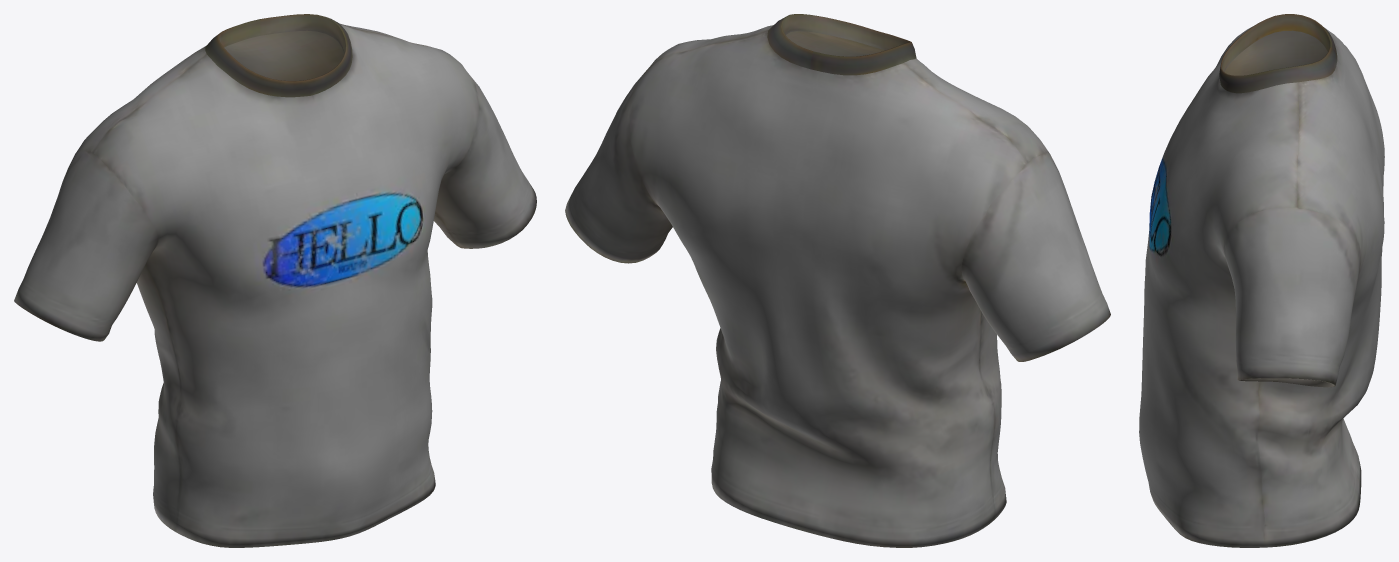
File: m_tee.glb
The picture shows the model from 3 angles, left to right: view 1: azimuth 30°, elevation 25°; view 2: azimuth 150°, elevation 25°; view 3: azimuth 270°, elevation 25°; orthographic projection. The views are drawn at different scales.
Parts seen in each view (by area): view 1: Object_2; view 2: Object_2; view 3: Object_2.
Boxes of the visible parts, left/top/right/bottom form: Object_2: left=14, top=14, right=536, bottom=547; Object_2: left=565, top=14, right=1110, bottom=547; Object_2: left=1139, top=14, right=1384, bottom=547.
Bounding box in the file's own units: 0.6683 × 0.5747 × 0.2821.
Materials: 1 (1 with a texture image).
